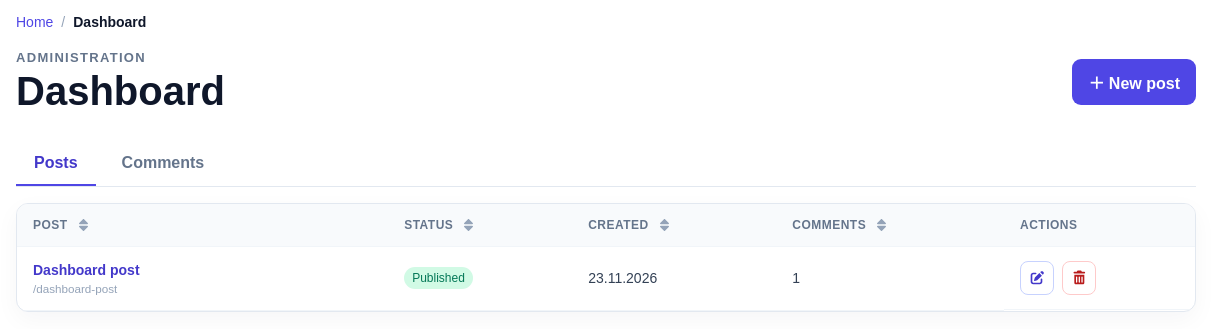
Test: Dashboard › removes a post after confirmation and reports success
Check: the link "Dashboard post" is shown, box left=33, top=262, right=140, bottom=278
Click the button named "Remove Dashboard post" at (1079, 278), box left=1062, top=261, right=1096, bottom=295
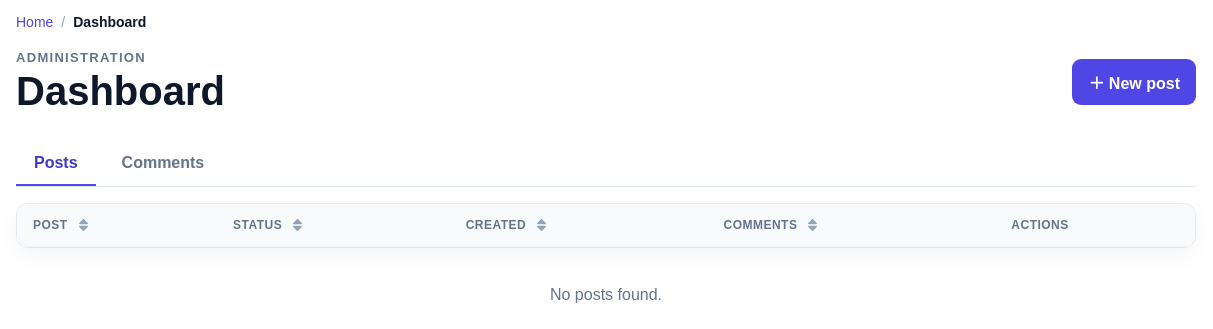
Check: the text "No posts found." is shown, box left=550, top=286, right=662, bottom=303
